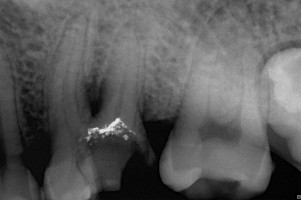Endo-Periodontal Lesion: (84, 75, 105, 117)
